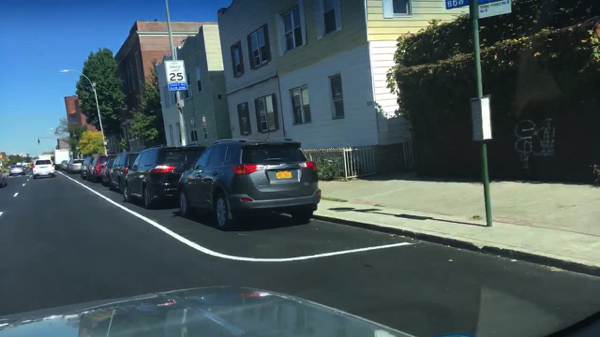car: (180, 136, 322, 232), (124, 144, 207, 209), (109, 152, 140, 191), (93, 154, 119, 181), (31, 159, 55, 178), (102, 159, 116, 185), (80, 155, 94, 179), (67, 159, 84, 173), (8, 163, 26, 176), (0, 160, 8, 187), (60, 160, 68, 171), (29, 162, 35, 170), (21, 166, 29, 171)
traffic light: (37, 138, 41, 147)
traffic sign: (467, 93, 493, 142), (163, 59, 188, 91), (477, 1, 513, 19), (444, 0, 476, 10)
truck: (52, 148, 72, 171)
